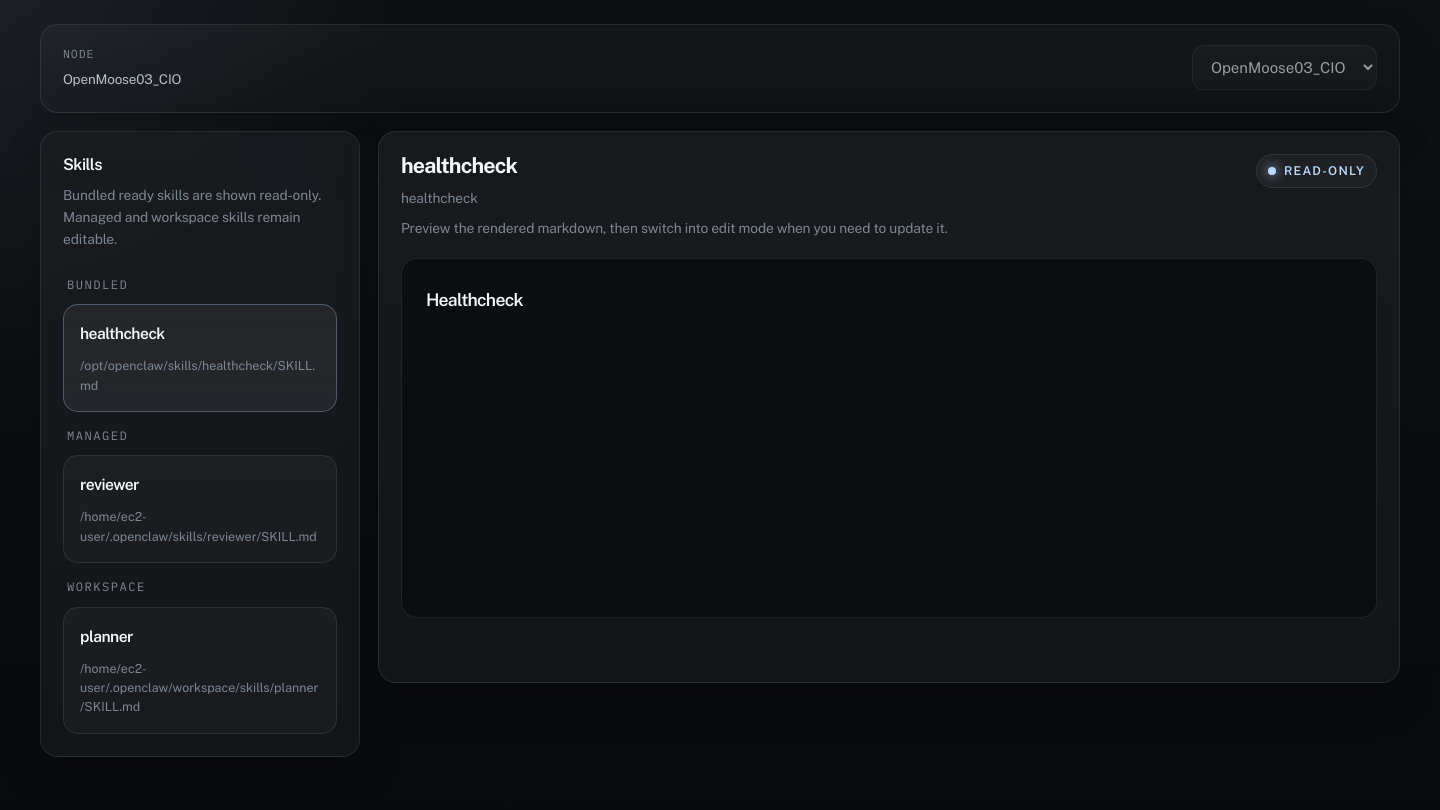
SkillsScreen › groups bundled, managed, and workspace skills while keeping bundled skills read-only
Expected: the heading "Healthcheck" is shown, left=426, top=289, right=523, bottom=310
Click the button "reviewer /home/ec2-user/.openclaw/skills/reviewer/SKILL.md" at (109, 485), box left=63, top=455, right=337, bottom=563
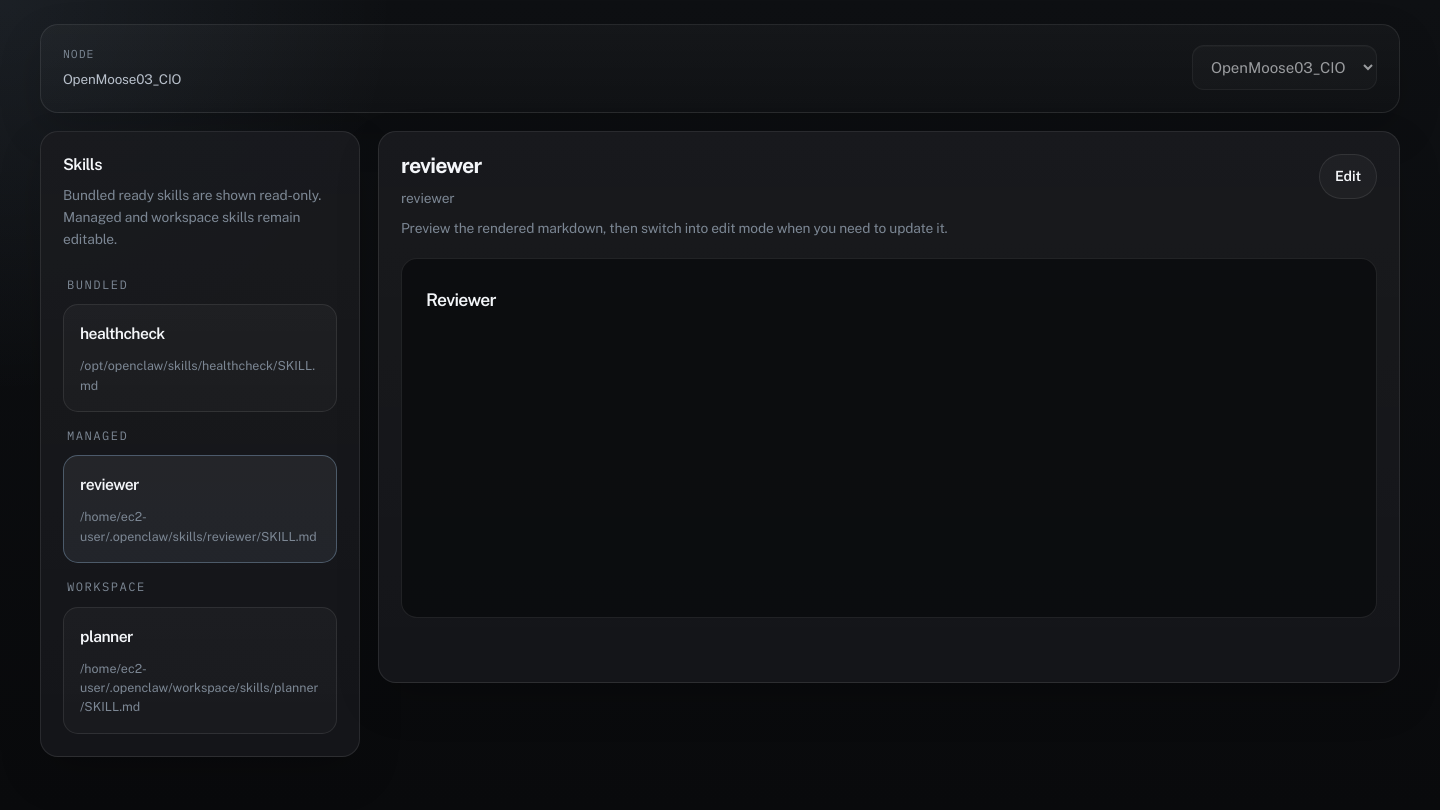
Expected: the heading "Reviewer" is shown, left=426, top=289, right=496, bottom=310
Expected: the button "Edit" is shown, left=1319, top=154, right=1377, bottom=199
